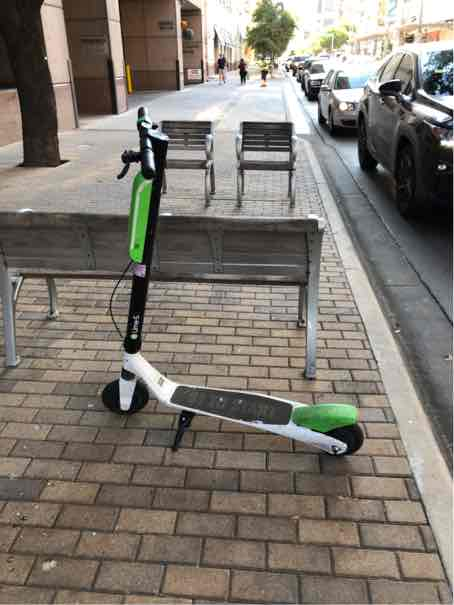scooter: (88, 106, 370, 461)
